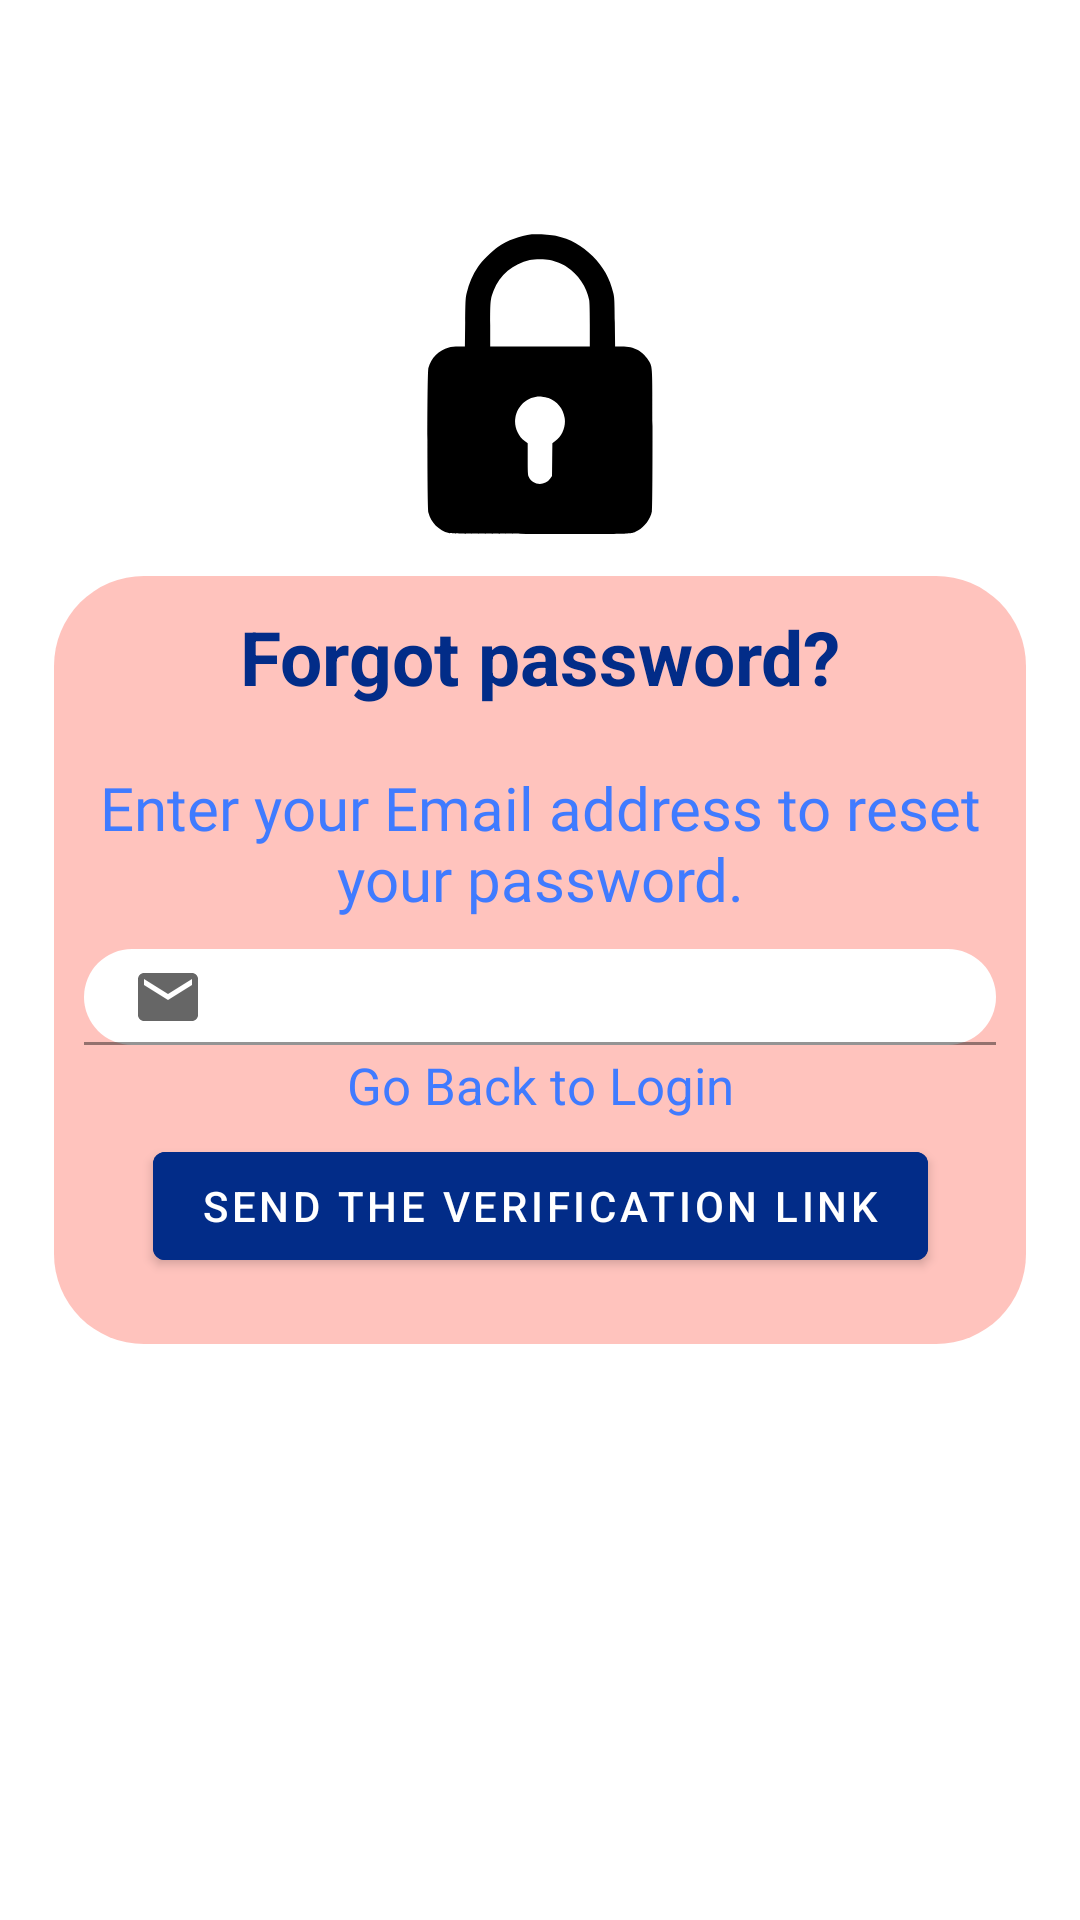

Named icons in this screenshot (1080 × 1920) and their centers, (x=x, y=y):
padlock: (x=540, y=384)
